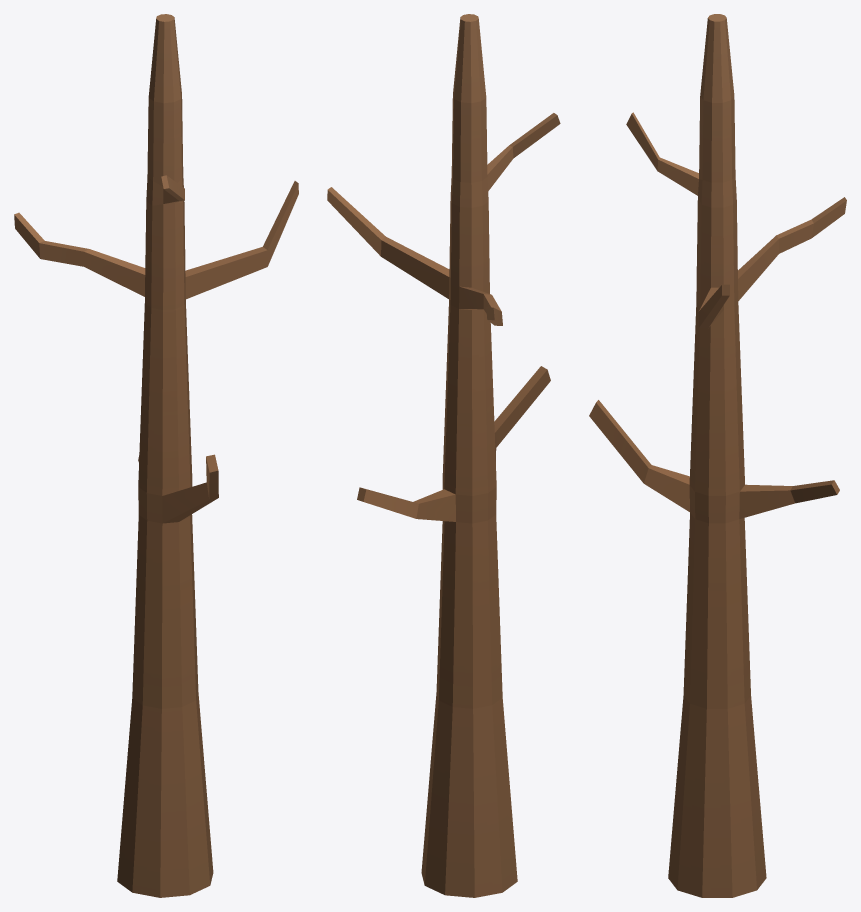
File: deadtree.glb
3 renders of one model, left to right at view 1: azimuth 30°, elevation 25°; view 2: azimuth 150°, elevation 25°; view 3: azimuth 270°, elevation 25°, orthographic.
Parts seen in each view (by area): view 1: Naked Spruse; view 2: Naked Spruse; view 3: Naked Spruse.
Boxes of the visible parts, x1,y1,x2,y2 form: Naked Spruse: (14, 14, 298, 897); Naked Spruse: (327, 14, 560, 897); Naked Spruse: (589, 14, 846, 897).
Bounding box in the file's own units: 5.25 × 19.29 × 5.24.
1 material, 1 textured.
